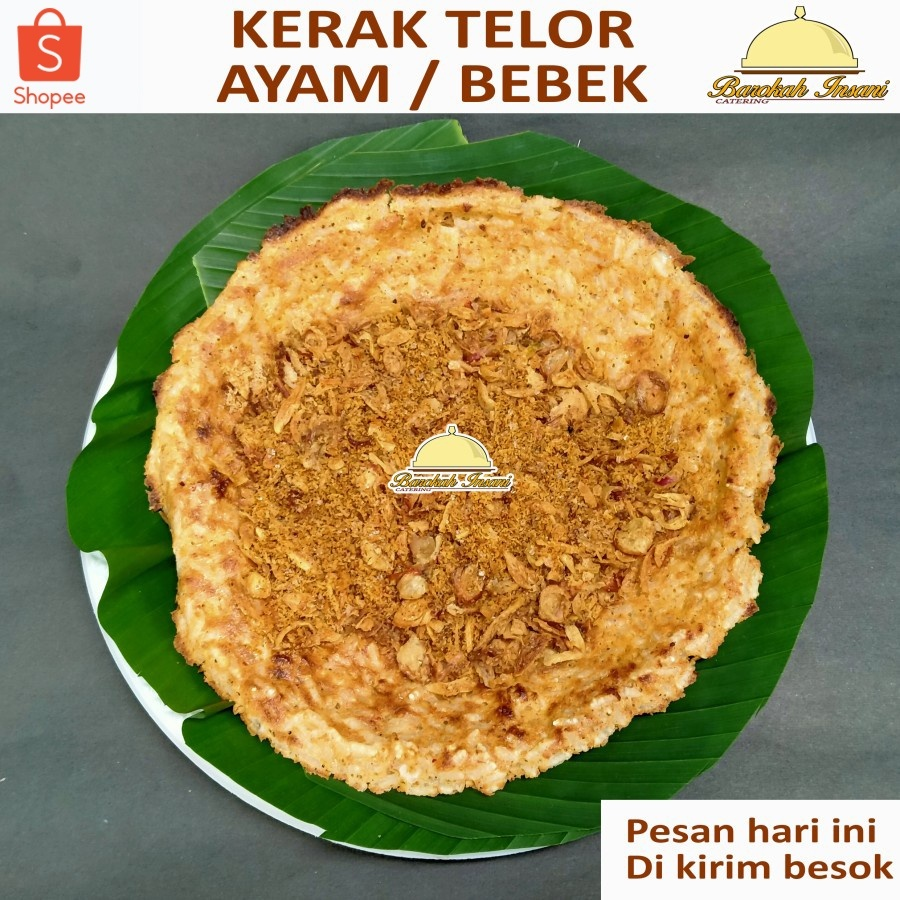kerak_telor: (157, 169, 752, 801)
